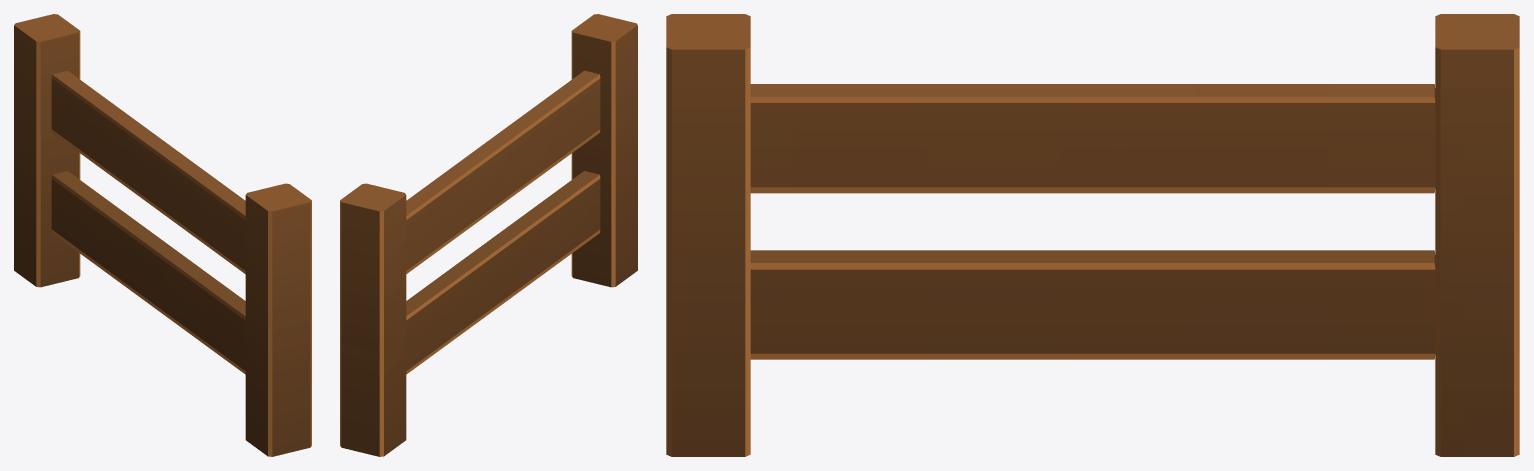
File: Fens.fbx
3 views of the same model, side by side, from view 1: azimuth 30°, elevation 25°; view 2: azimuth 150°, elevation 25°; view 3: azimuth 270°, elevation 25° (orthographic). The views are drawn at different scales.
Parts seen in each view (by area): view 1: Fens; view 2: Fens; view 3: Fens.
Boxes of the visible parts, left/top/right/bottom form: Fens: left=14, top=14, right=311, bottom=456; Fens: left=340, top=14, right=637, bottom=456; Fens: left=666, top=14, right=1519, bottom=456.
Size of the model in its own units: 19.73 by 105 by 200.
